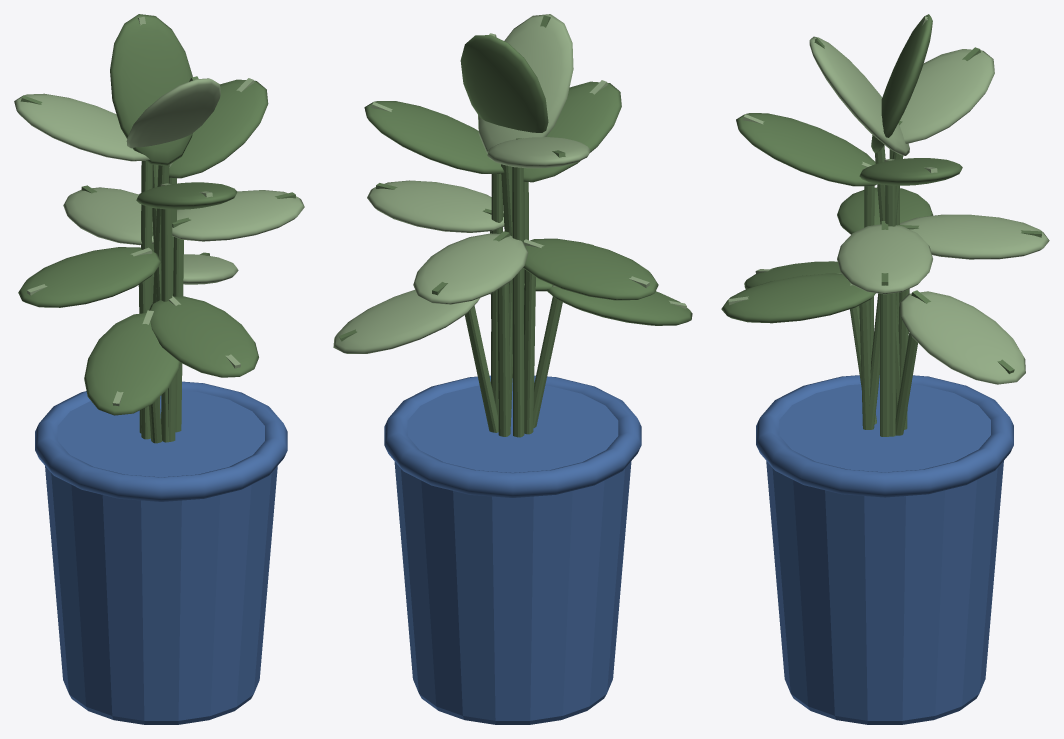
The model's file is hh_cat_plant_pot_v.glb.
3 renders of one model, left to right at view 1: azimuth 30°, elevation 25°; view 2: azimuth 150°, elevation 25°; view 3: azimuth 270°, elevation 25°, orthographic. The views are drawn at different scales.
Parts seen in each view (by area): view 1: pot, pot_rim, leaf, leaf.010, leaf.008, leaf.006, leaf.002, leaf.003, leaf.007, leaf.001, leaf.005, leaf.004 (+9 smaller); view 2: pot, pot_rim, leaf, leaf.006, leaf.005, leaf.002, leaf.007, leaf.001, leaf.009, leaf.004, leaf.010, stem.003 (+7 smaller); view 3: pot, pot_rim, leaf.009, leaf.003, leaf.004, leaf.008, leaf.007, leaf.005, leaf.001, leaf, leaf.002, leaf.006 (+9 smaller).
Boxes of the visible parts, x1,y1,x2,y2 form: pot: (45,390,277,724); pot_rim: (35,381,287,501); leaf: (110,14,192,166); leaf.010: (84,313,180,415); leaf.008: (149,296,258,377); leaf.006: (18,247,161,307); leaf.002: (169,79,268,178); leaf.003: (14,93,149,161); leaf.007: (172,190,304,241); leaf.001: (126,78,220,148); leaf.005: (63,187,153,245); leaf.004: (136,182,237,209); pot: (394,383,631,724); pot_rim: (384,375,641,497); leaf: (460,35,548,132); leaf.006: (523,238,658,300); leaf.005: (413,233,528,304); leaf.002: (364,101,504,173); leaf.007: (367,180,504,232); leaf.001: (478,14,573,153); leaf.009: (333,290,479,353); leaf.004: (523,81,621,182); leaf.010: (547,286,692,325); stem.003: (512,167,524,437); pot: (766,383,1003,724); pot_rim: (756,375,1013,497); leaf.009: (899,291,1025,384); leaf.003: (899,49,994,143); leaf.004: (736,113,876,186); leaf.008: (721,273,875,323); leaf.007: (837,224,932,294); leaf.005: (900,214,1049,259); leaf.001: (809,36,909,155); leaf: (871,14,932,153); leaf.002: (859,158,962,185); leaf.006: (837,187,932,234).
Size of the model in its own units: 0.4 by 0.9 by 0.4.
